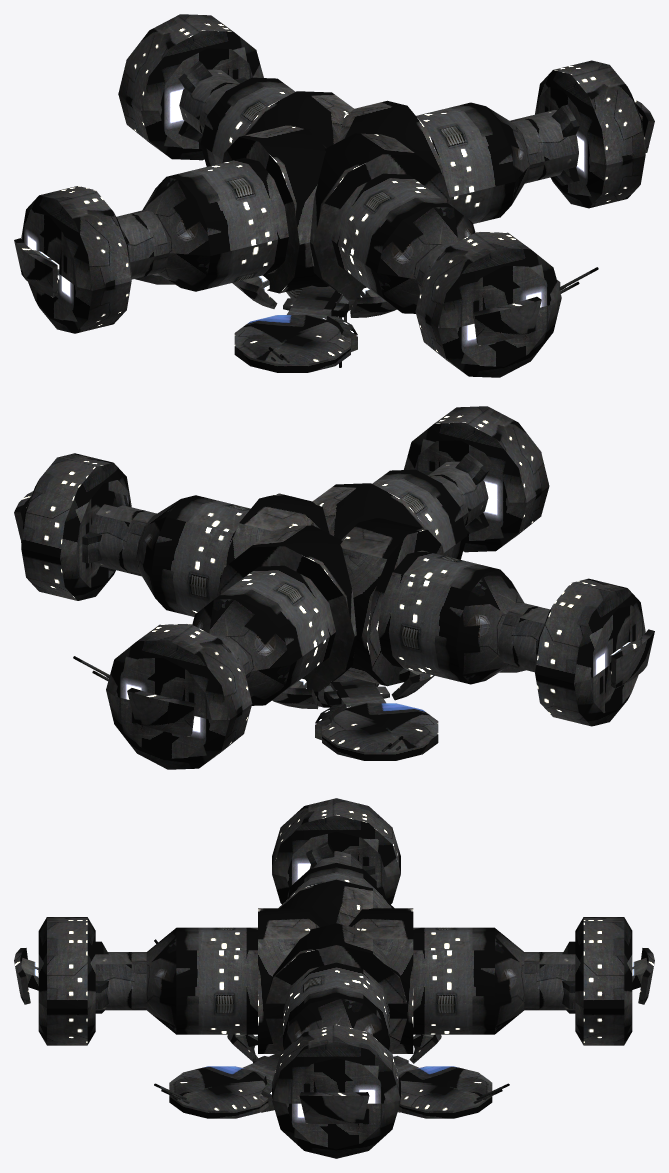
Rendered from Station_Small.fbx.
3 views of the same model, one above another, from view 1: azimuth 30°, elevation 25°; view 2: azimuth 150°, elevation 25°; view 3: azimuth 270°, elevation 25° (orthographic). The views are drawn at different scales.
Parts seen in each view (by area): view 1: Station_Small; view 2: Station_Small; view 3: Station_Small.
Boxes of the visible parts, <box> form: Station_Small: <box>14,14,654,377</box>; Station_Small: <box>14,406,654,769</box>; Station_Small: <box>14,798,654,1158</box>.
Size of the model in its own units: 473 by 175 by 473.
Materials: 1 (1 with a texture image).
